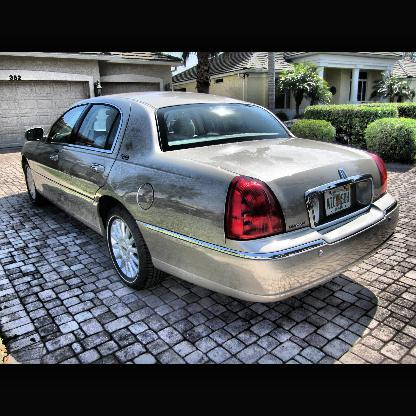Lincoln Town Car Sedan 2011: (20, 89, 402, 310)
